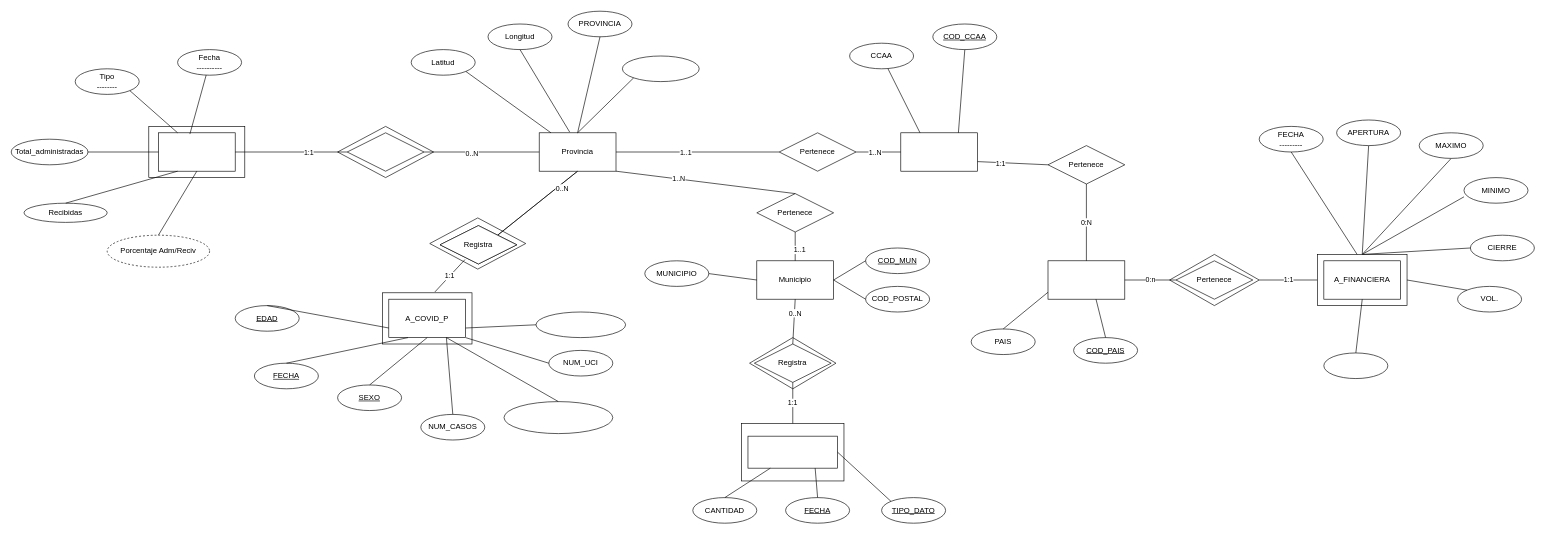
This 1546x534 diagram has some shape labels left out. Each missing label, with the box of its shape:
A_COVID_M: (747, 436, 838, 468)
Administradas: (347, 132, 424, 171)
COD_PROVINCIA: (622, 55, 699, 82)
Comunidad Autónoma: (900, 132, 978, 171)
MERCADO ---------: (1323, 352, 1388, 379)
NUM_DEFUNCIONES: (535, 311, 626, 338)
NUM_HOSPITALIZACIONES: (503, 401, 613, 434)
País: (1047, 260, 1125, 299)
Vacuna: (158, 132, 235, 171)
